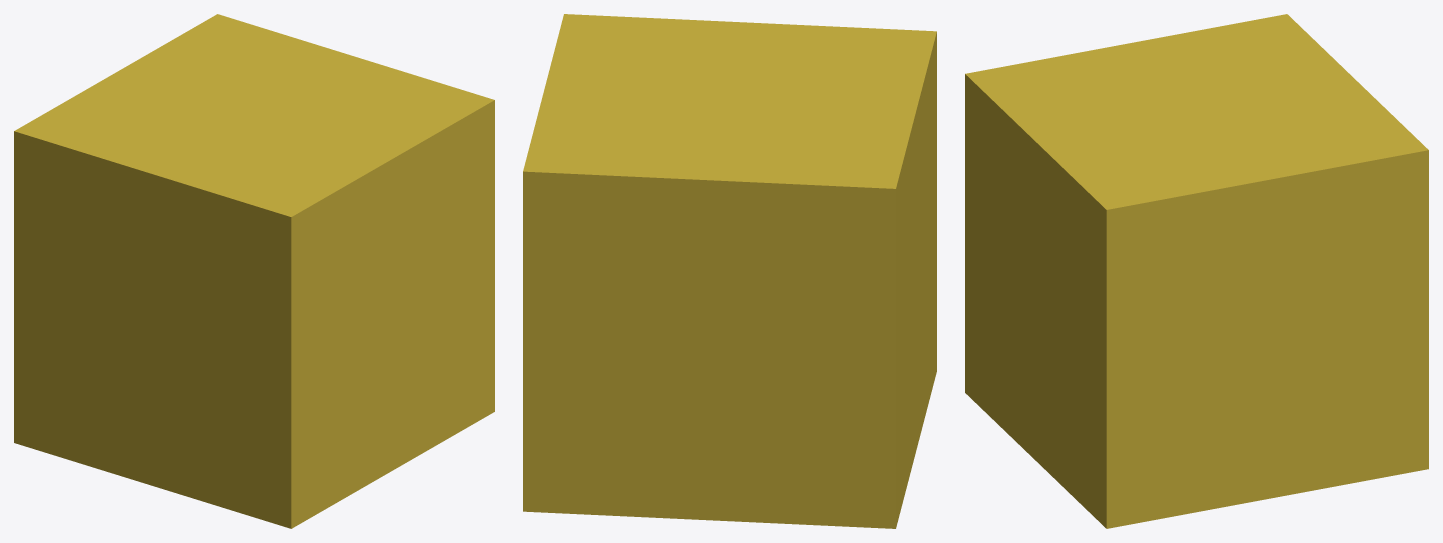
The model's file is AnimationsClassWork.fbx.
The picture shows the model from 3 angles, left to right: view 1: azimuth 30°, elevation 25°; view 2: azimuth 150°, elevation 25°; view 3: azimuth 270°, elevation 25°; orthographic projection. The views are drawn at different scales.
Visible parts, largest first — view 1: Cube; view 2: Cube; view 3: Cube.
Part boxes in pixels (left/top/right/bottom): Cube: left=14, top=14, right=494, bottom=528; Cube: left=523, top=14, right=936, bottom=528; Cube: left=965, top=14, right=1428, bottom=528.
Bounding box in the file's own units: 264 × 200 × 264.
